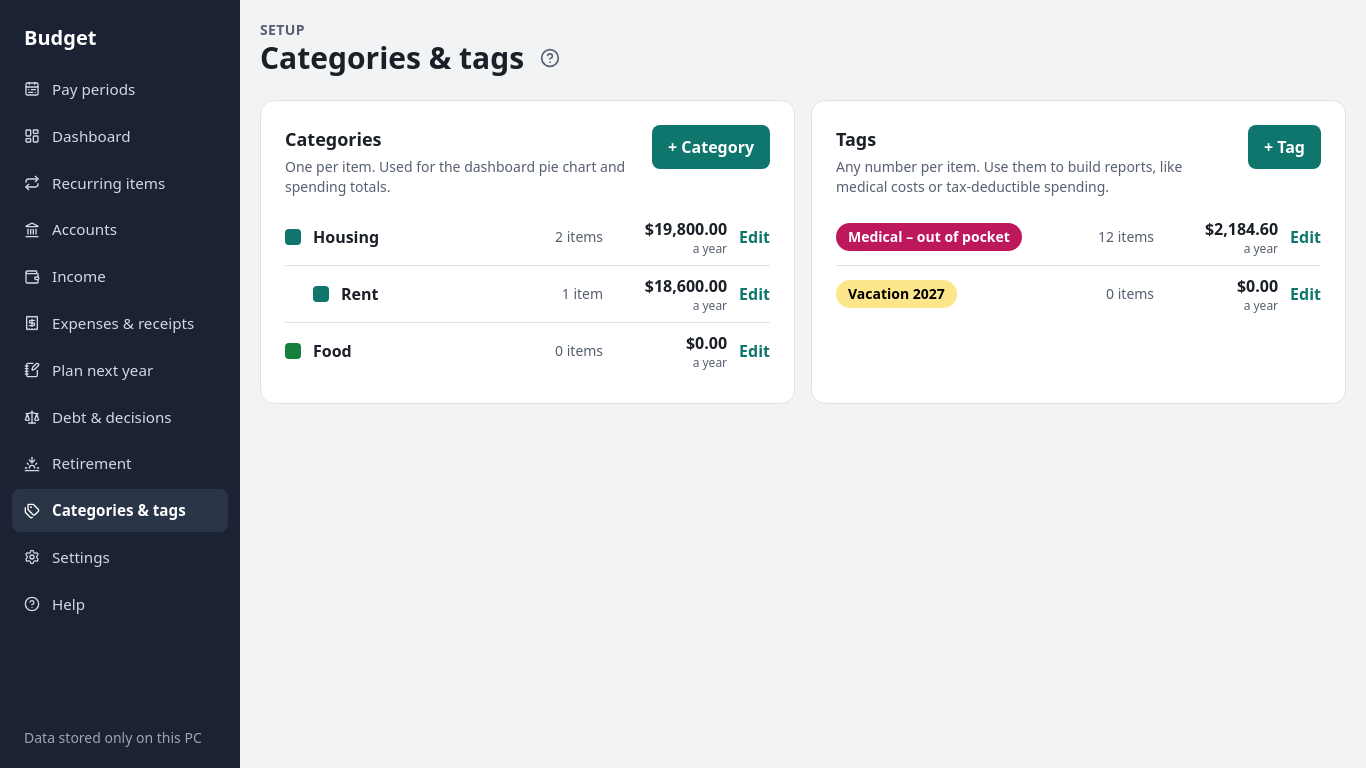
it: categories & tags screen › deletes a category without asking twice and explains when it is still in use
Click the button "Edit Rent".
click(360, 294)  # box top-left (285, 266), bottom-right (770, 322)
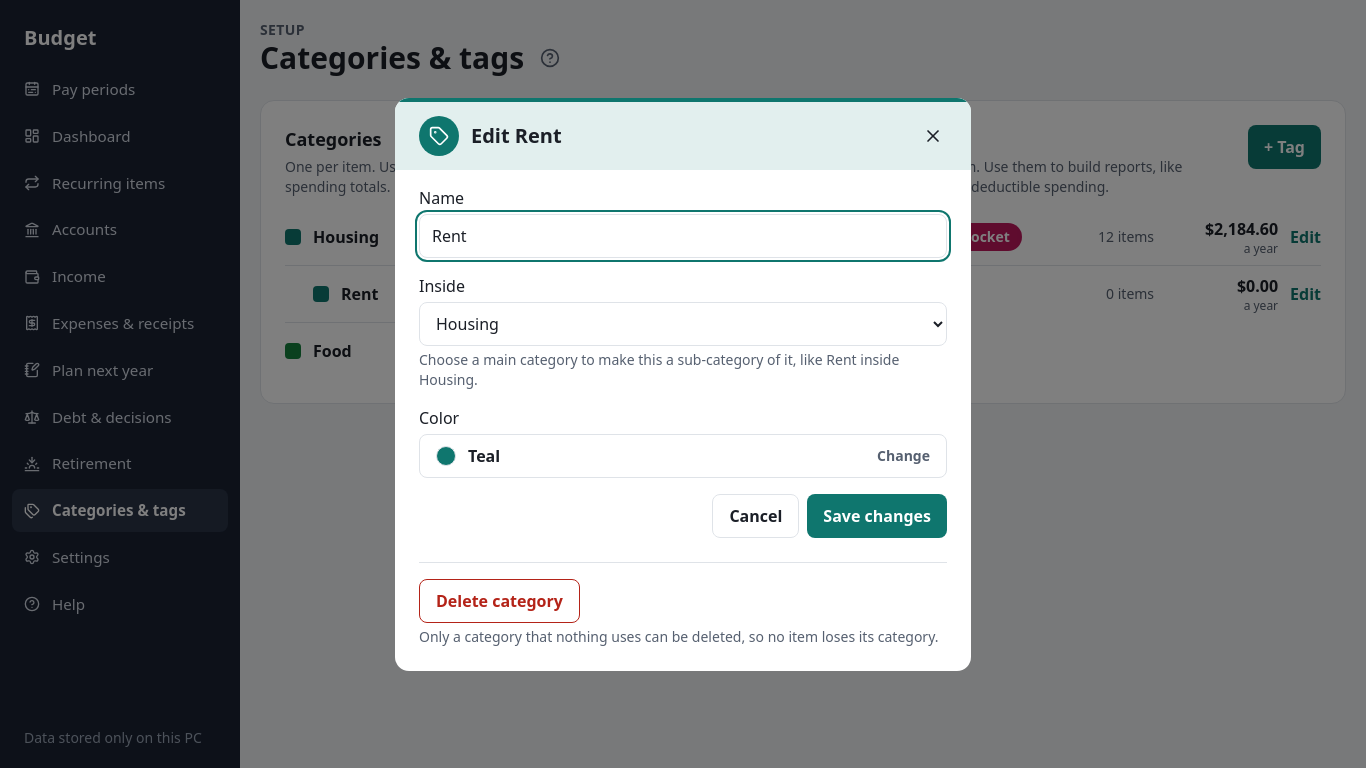
Click the button "Delete category".
click(499, 600)  # box top-left (419, 578), bottom-right (580, 622)
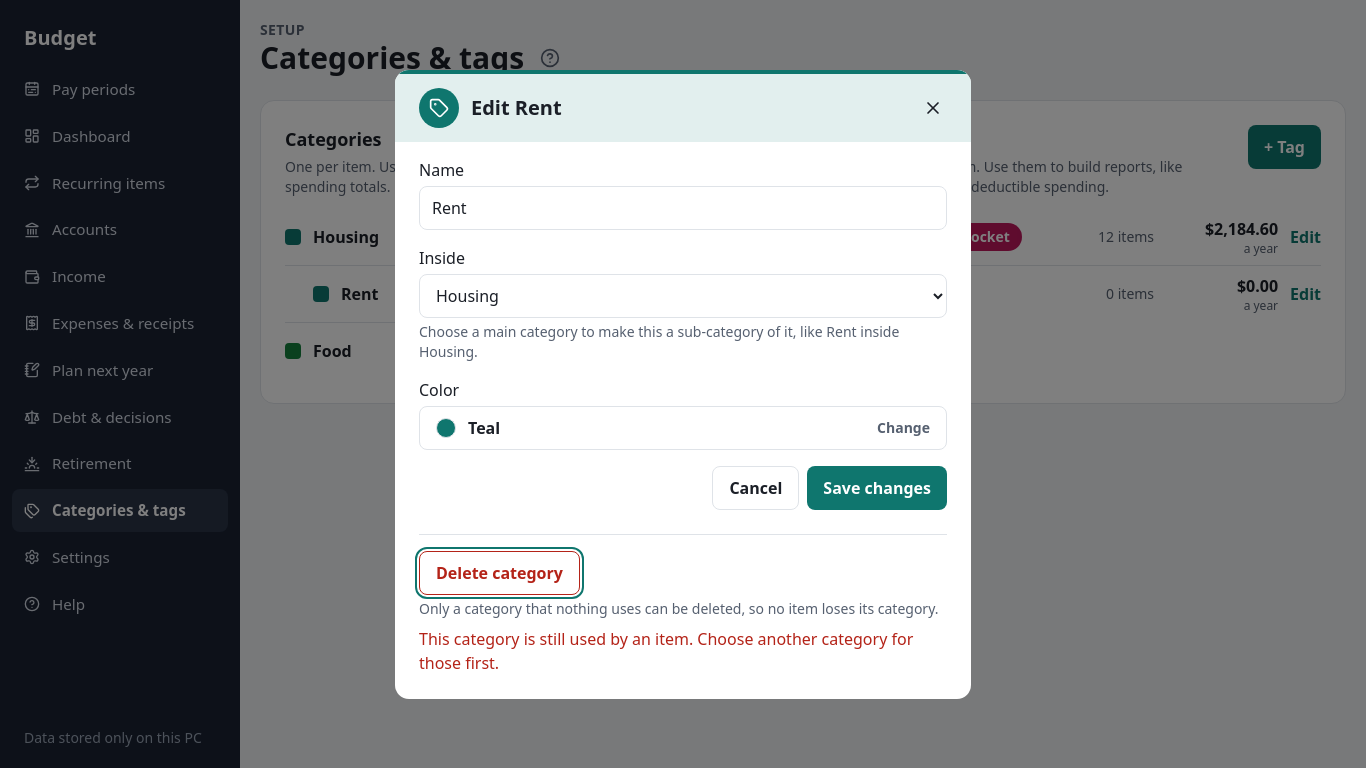
Check: the dialog "Edit Rent" is shown, box top-left (395, 70), bottom-right (971, 698)
Check: the text "still used by an item" is shown, box top-left (419, 628), bottom-right (913, 674)
